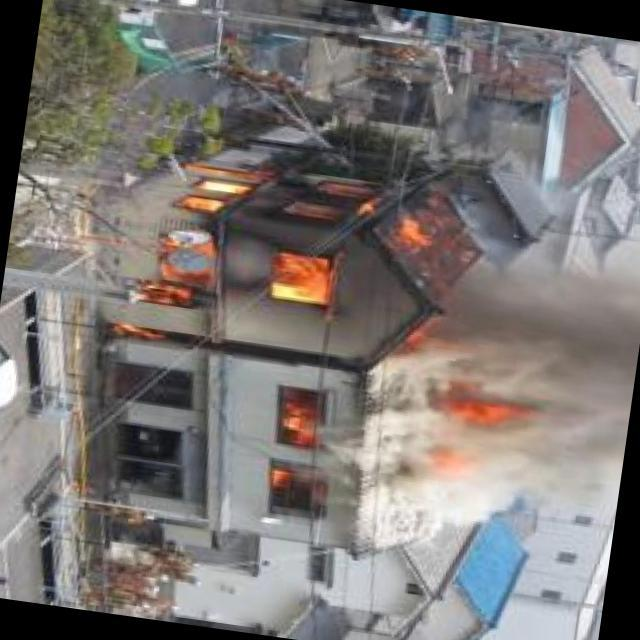Fire: (124, 159, 461, 353), (418, 380, 509, 486), (260, 386, 325, 529)
